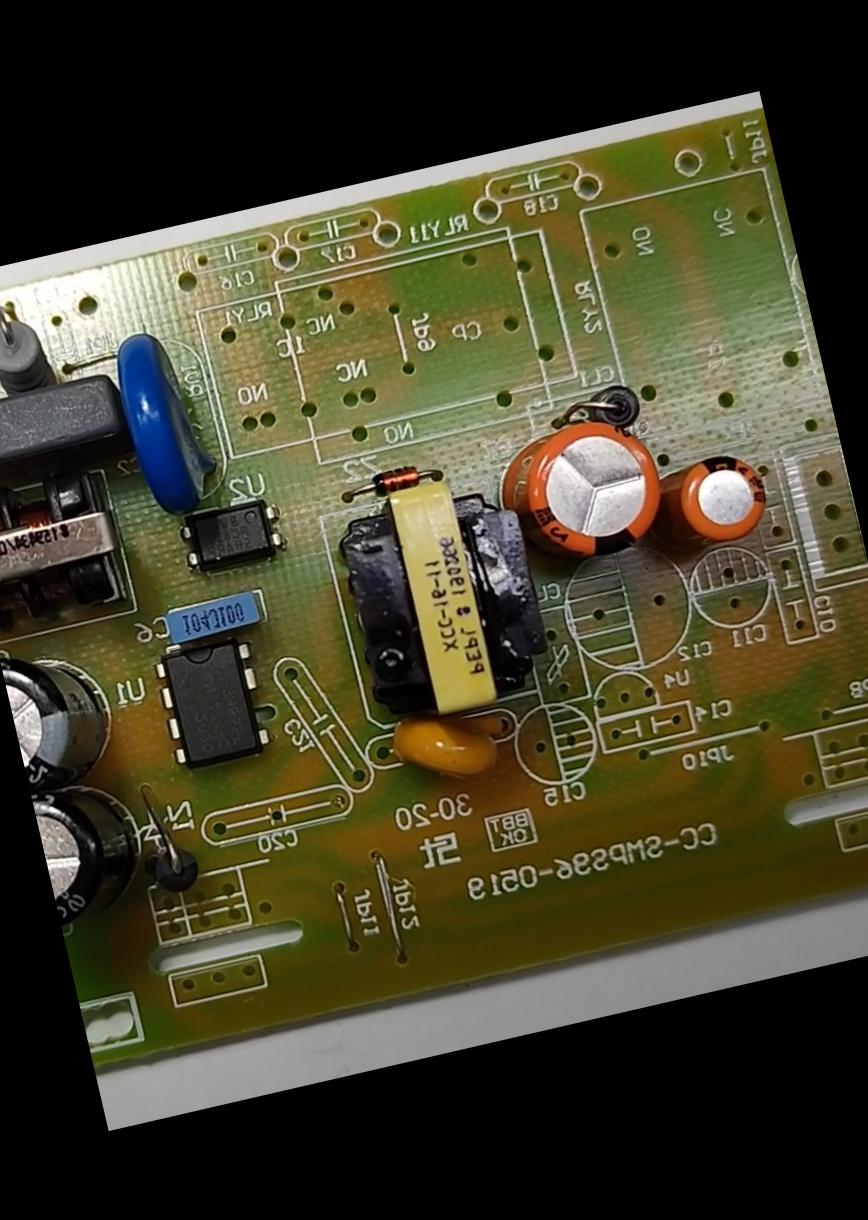Cap1: (483, 390, 692, 586)
Cap2: (652, 430, 796, 568)
Cap3: (0, 623, 153, 796)
Cap4: (28, 752, 180, 946)
MOSFET: (134, 612, 293, 788)
Mov: (98, 309, 254, 542)
Resistor: (0, 295, 62, 397)
Transformer: (286, 421, 593, 766), (0, 416, 174, 663)
